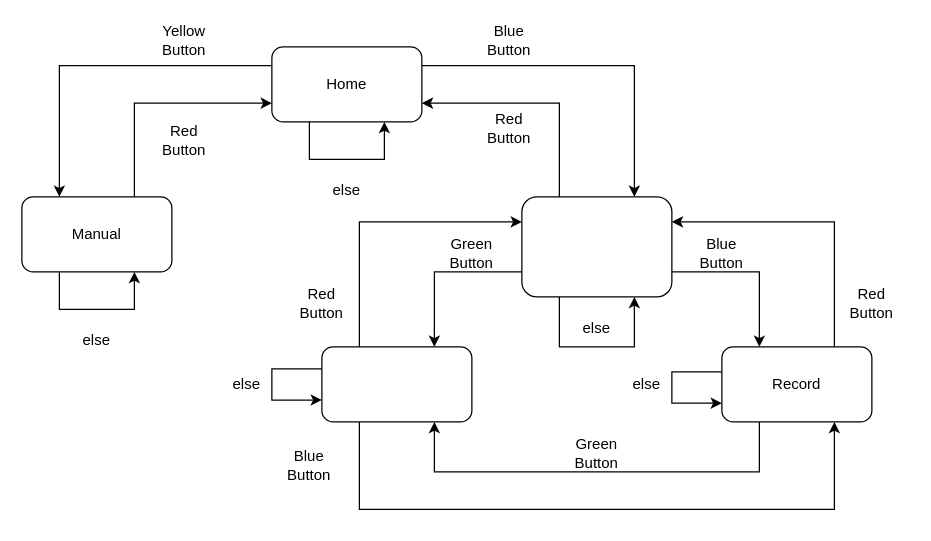
Some shapes in this 931 by 541 pixel diagram are drawn without their labels. Here are the shapes that lost their labels. From the top down, the centre of each, then its label:
point (596, 246): Automatic
point (396, 384): Execute
